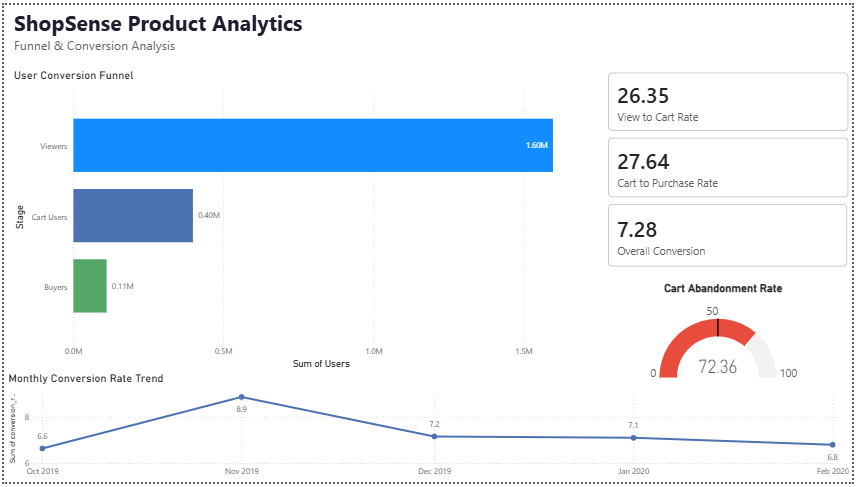

The page's visual inventory and layout, read from the dashboard file:
{"tool":"powerbi","page":{"name":"Funnel Analysis","canvas":[1280,720],"ordinal":1},"visuals":[{"type":"textbox","box":[10.1,0,1270.4,97.2],"z":0},{"type":"clusteredBarChart","title":"User Conversion Funnel","fields":{"Category":["FunnelData.Stage"],"Y":["Sum(FunnelData.Users)"]},"box":[10.6,96.9,861.6,456.4],"z":1000},{"type":"cardVisual","fields":{"Data":["FunnelData.View to Cart Rate"]},"box":[906.7,96.7,373.3,98.3],"z":2000},{"type":"cardVisual","fields":{"Data":["FunnelData.Cart to Purchase Rate"]},"box":[906.7,195,373.3,100],"z":3000},{"type":"cardVisual","fields":{"Data":["FunnelData.Overall Conversion"]},"box":[906.7,295,371.7,105],"z":4000},{"type":"lineChart","title":"Monthly Conversion Rate Trend","fields":{"Y":["Sum(monthly_funnel.conversion_rate)"],"Category":["monthly_funnel.event_month_str.Variation.Date Hierarchy.Year","monthly_funnel.event_month_str.Variation.Date Hierarchy.Month"]},"box":[1.7,553.1,1278.7,167.6],"z":5000},{"type":"gauge","title":"Cart Abandonment Rate","fields":{"Y":["monthly_funnel.Cart Abandonment Rate"],"MinValue":["FunnelData.Gauge Min"],"MaxValue":["FunnelData.Gauge Max"],"TargetValue":["FunnelData.Gauge Target"]},"box":[906.7,418.3,358.3,153.3],"z":6000}]}

Visuals, with their boxes in screenshot pixels (x1, y1, x2, y2), scaled from the page's 1280x720 canvas onto the 857x487 screenshot:
textbox: region(7, 0, 856, 66)
"User Conversion Funnel" clusteredBarChart: region(7, 66, 584, 374)
cardVisual - FunnelData.View to Cart Rate: region(607, 65, 856, 132)
cardVisual - FunnelData.Cart to Purchase Rate: region(607, 132, 856, 200)
cardVisual - FunnelData.Overall Conversion: region(607, 200, 856, 271)
"Monthly Conversion Rate Trend" lineChart: region(1, 374, 856, 486)
"Cart Abandonment Rate" gauge: region(607, 283, 847, 387)
